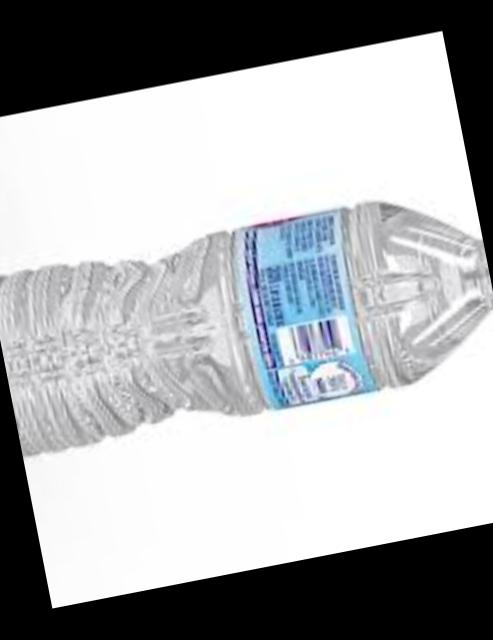plastic: (0, 198, 493, 452)
